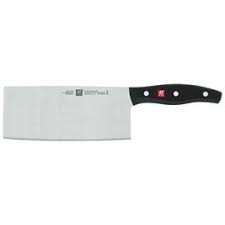knife: (1, 82, 225, 144)
